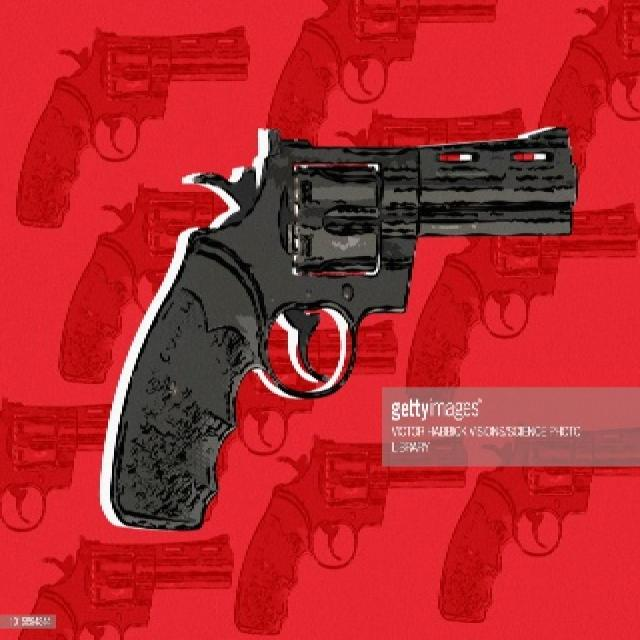handgun: (99, 125, 577, 534)
